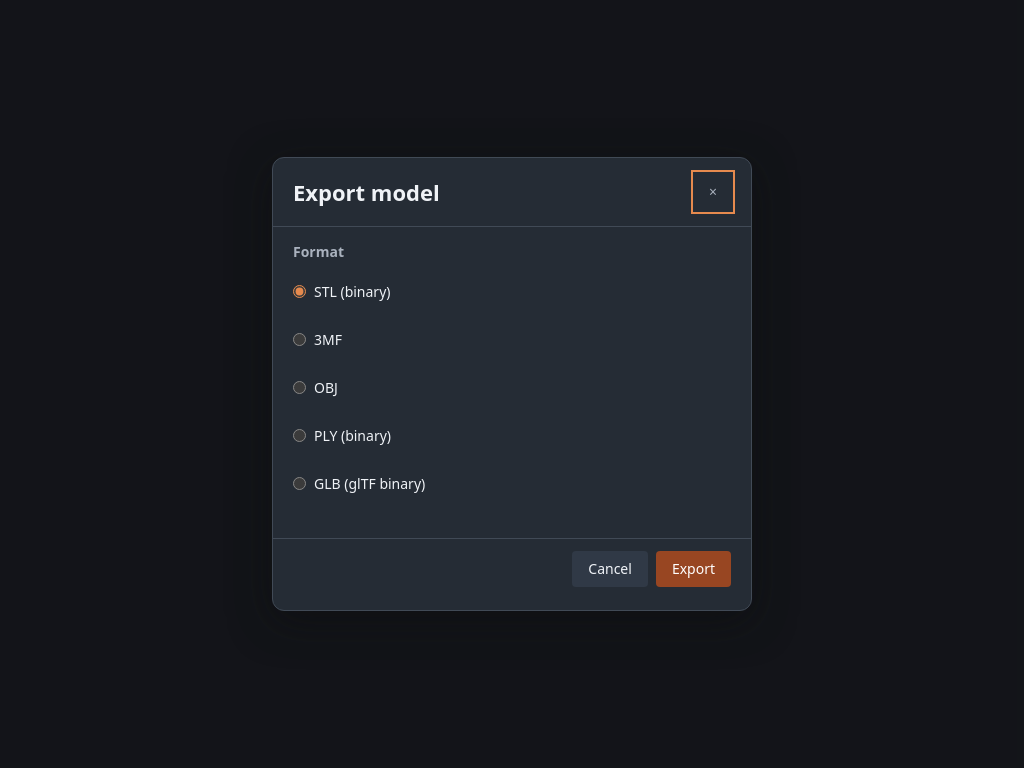
Test case: ExportDialog › reports collection errors without starting export
Click the button "Export". click: x=693, y=569
box: x1=656 y1=551 x2=731 y2=587
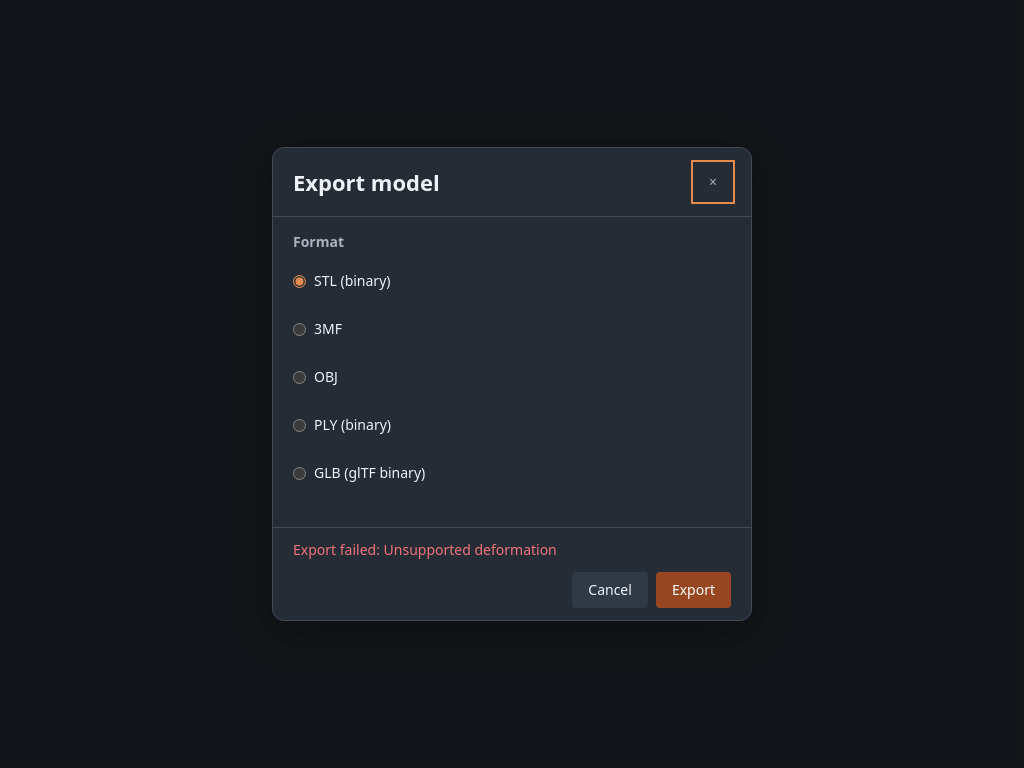
expect the message shows "Unsupported deformation": met, box x1=384 y1=540 x2=557 y2=559
